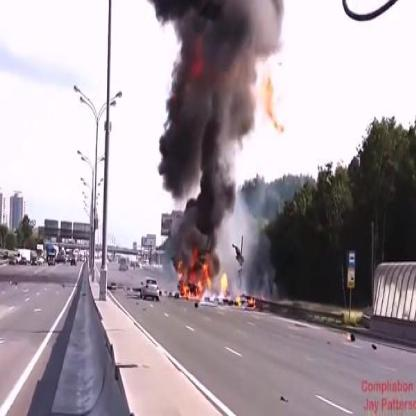fire: (176, 245, 230, 306), (234, 291, 259, 309)
